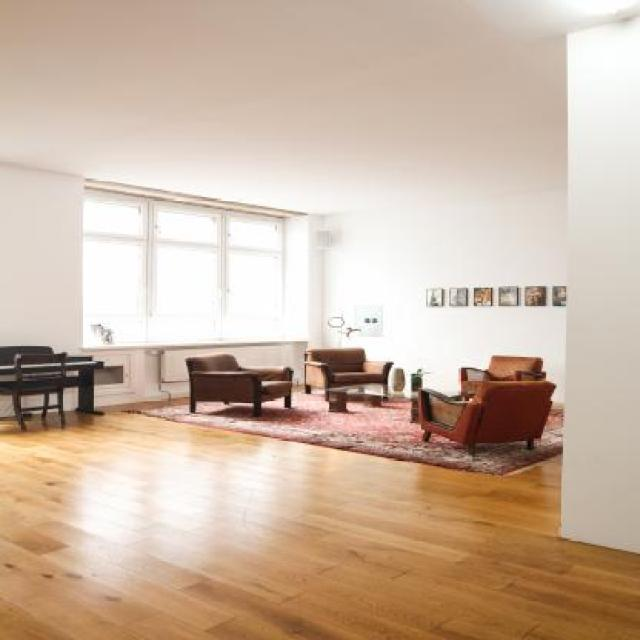floor: (0, 390, 639, 640)
